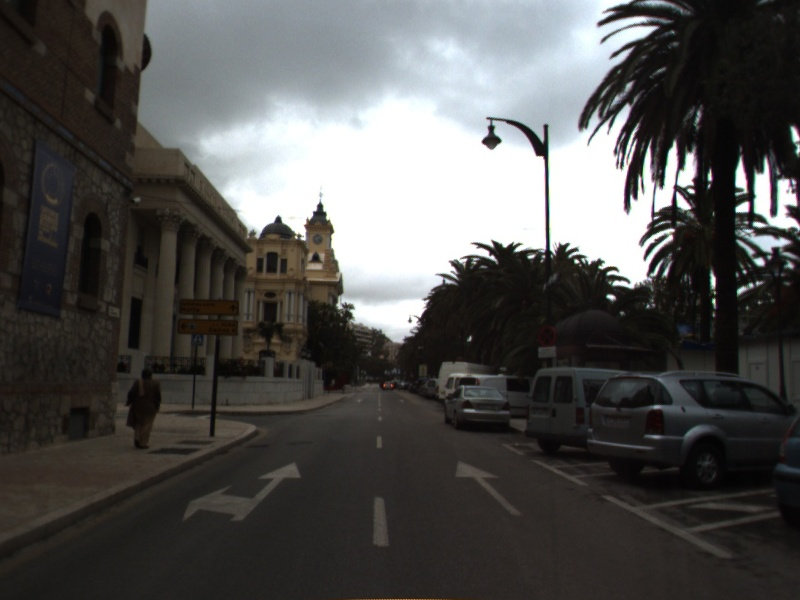STRAIGHT: (453, 458, 525, 518)
STRAIGHT_LEFT: (180, 460, 302, 525)
